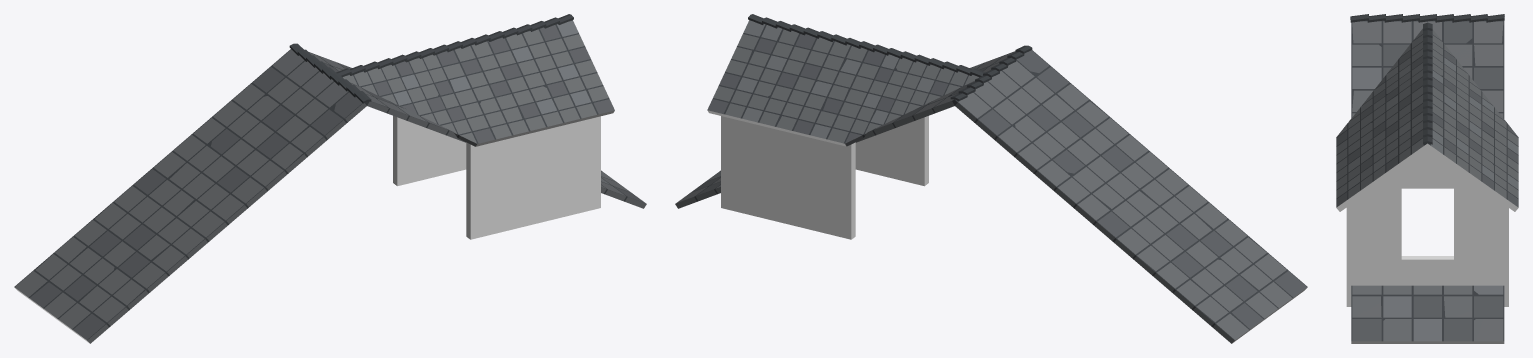
File: Roof4_C8_04.fbx
3 renders of one model, left to right at view 1: azimuth 30°, elevation 25°; view 2: azimuth 150°, elevation 25°; view 3: azimuth 270°, elevation 25°, orthographic. The views are drawn at different scales.
Parts seen in each view (by area): view 1: Roof4_C8_04; view 2: Roof4_C8_04; view 3: Roof4_C8_04.
Boxes of the visible parts, x1,y1,x2,y2 form: Roof4_C8_04: [14, 14, 646, 343]; Roof4_C8_04: [675, 14, 1307, 343]; Roof4_C8_04: [1336, 14, 1518, 343].
Size of the model in its own units: 1105 by 338 by 298.
